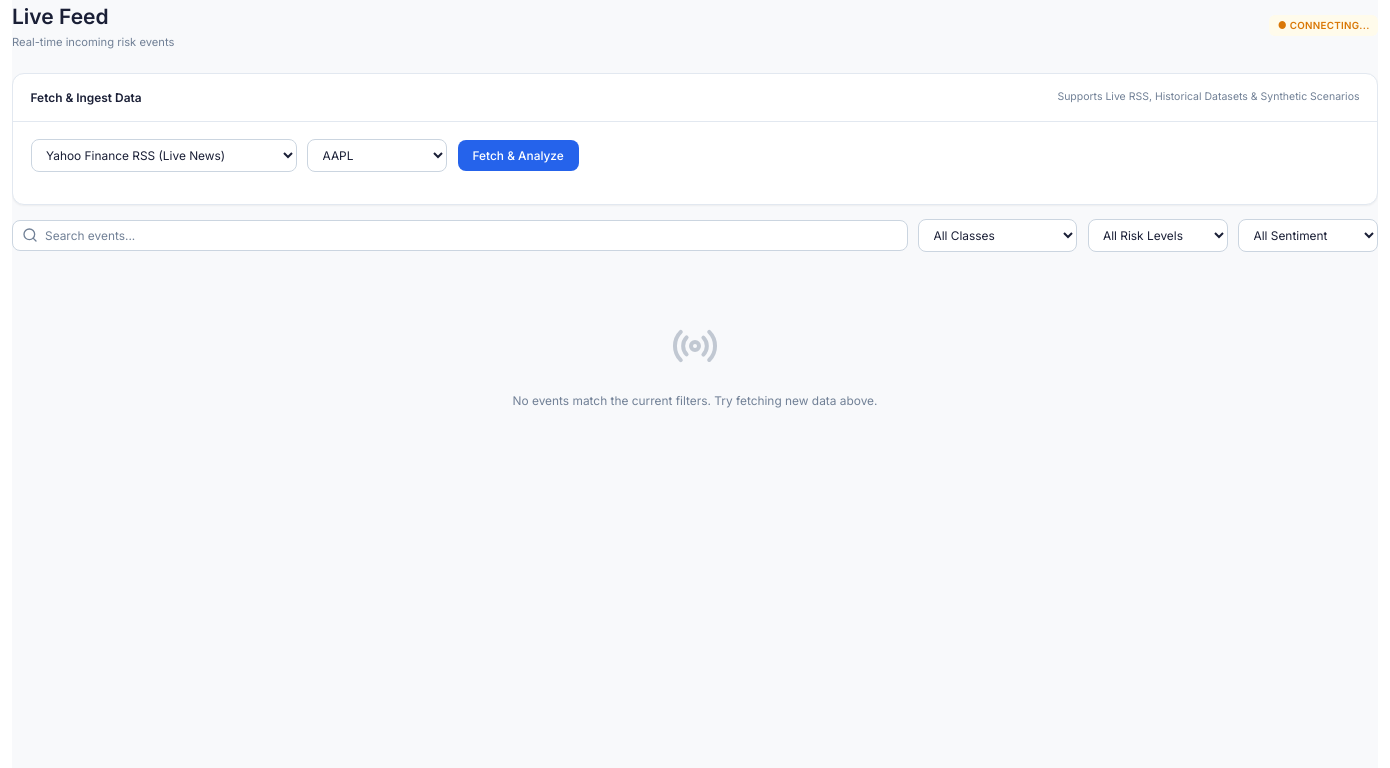
Test: LiveFeedPage Synchronization › displays clear status message when there is a mixture of new and duplicate articles
The image size is (1390, 768).
Expected: the button "Fetch & Analyze" is shown, [458,140,579,171]
Select "AMZN" in the 2nd dropdown. click: (377, 156)
box: [307,139,447,172]
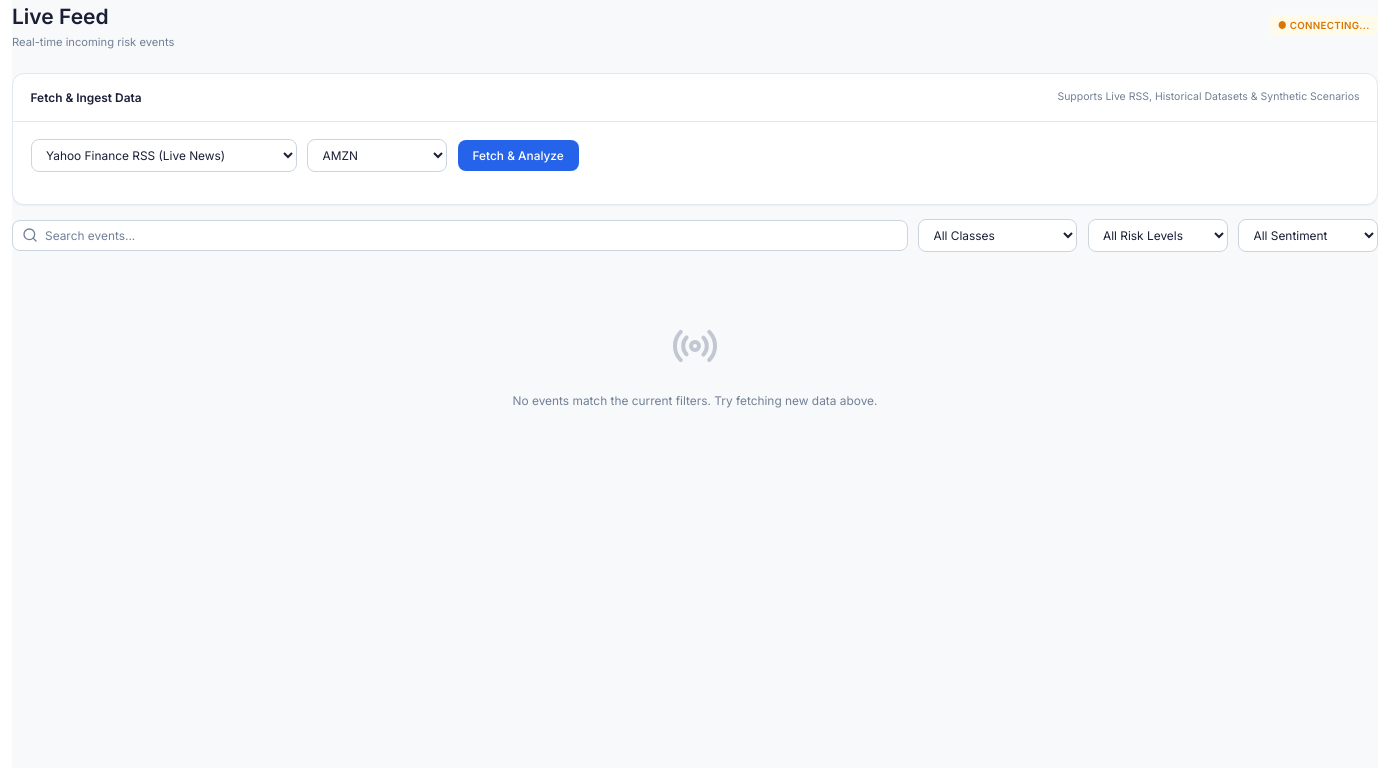
Click the button "Fetch & Analyze". click: (518, 156)
box: [458,140,579,171]
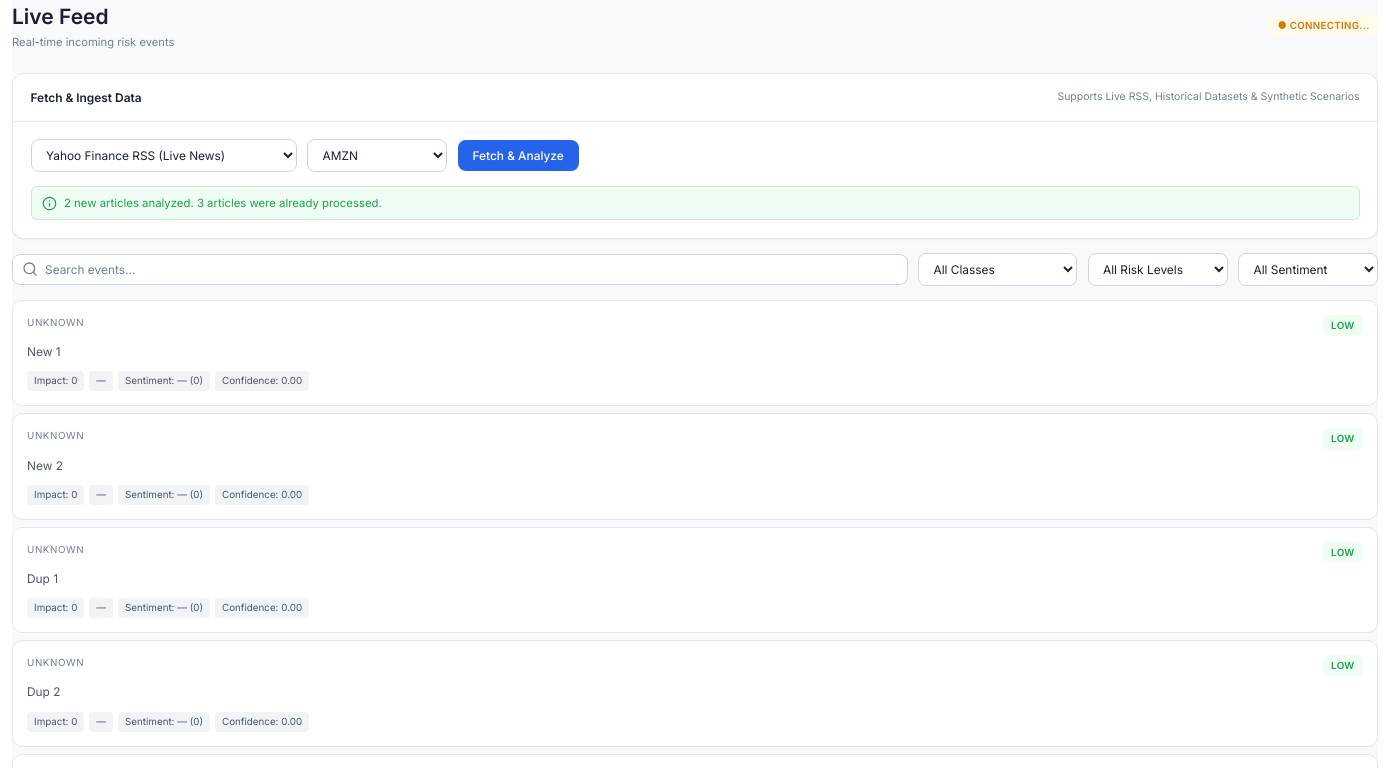
Result: the text "2 new articles analyzed. 3 articles were already processed." is shown at [64,194,382,212]
